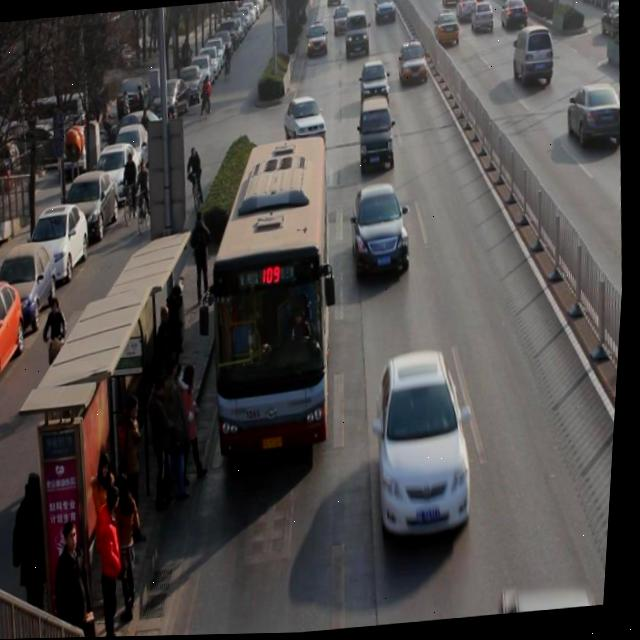car: (373, 350, 487, 544), (350, 183, 417, 280), (564, 83, 626, 155), (281, 98, 330, 147), (396, 39, 430, 90), (358, 62, 392, 103), (432, 11, 462, 49), (499, 0, 531, 34), (468, 1, 496, 37), (305, 22, 329, 60), (331, 3, 351, 38), (372, 0, 398, 26), (454, 0, 478, 25), (439, 0, 462, 9), (464, 0, 484, 2)
truck: (356, 98, 400, 175), (510, 27, 558, 90), (342, 10, 372, 60)
van: (200, 134, 348, 456)
